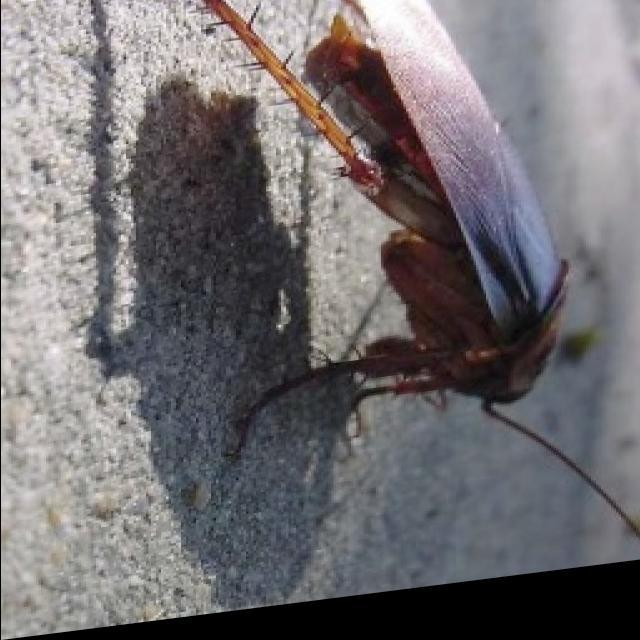cockroach: (201, 9, 637, 538)
